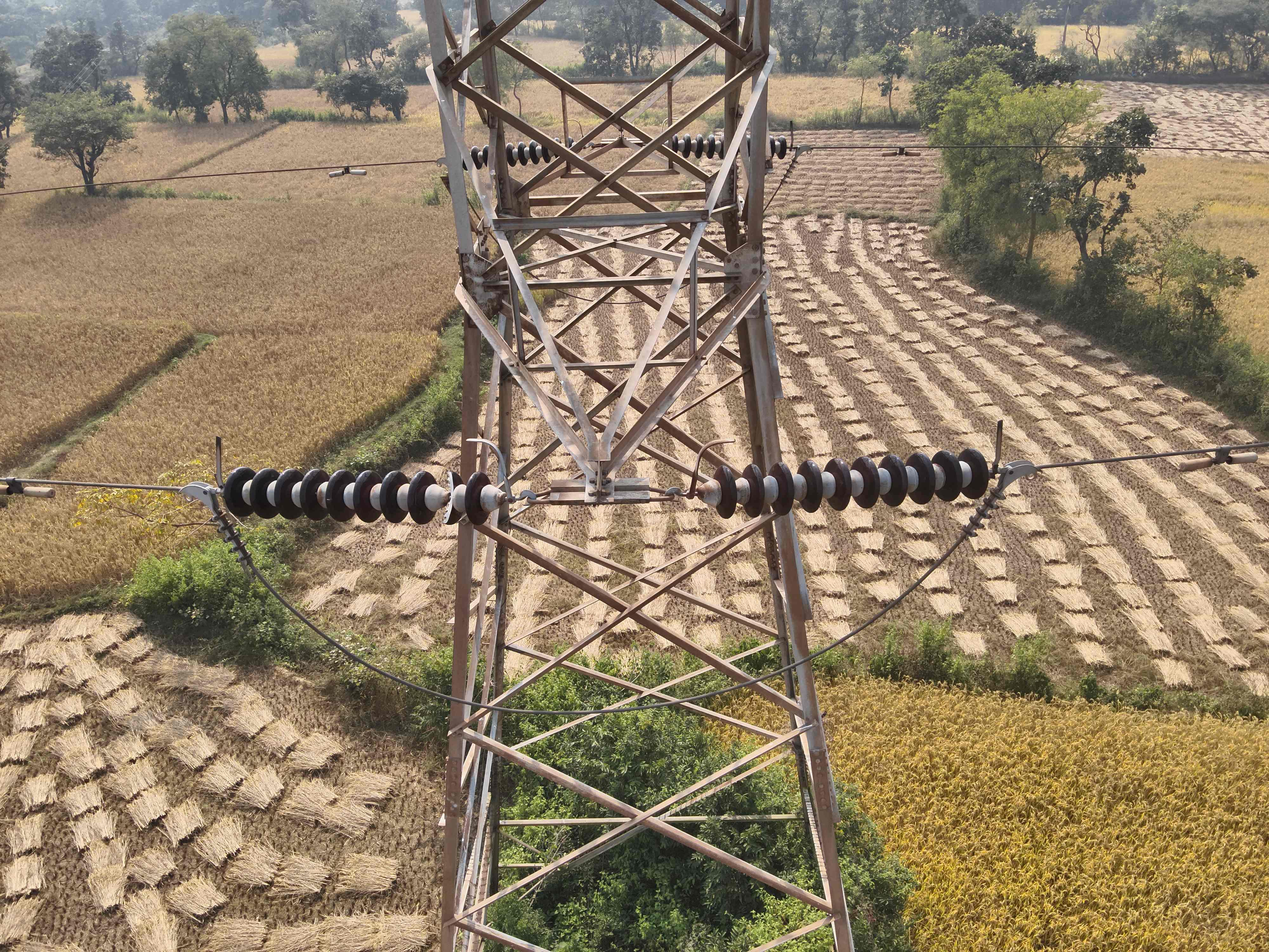broken_insulator: (435, 466, 466, 531)
